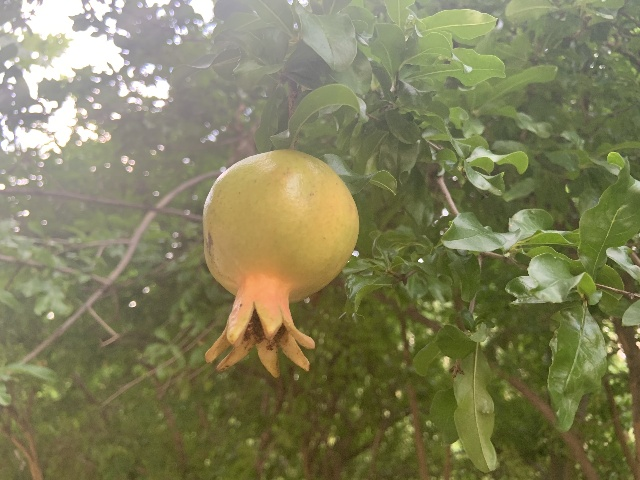mid-growth: (201, 148, 360, 378)
